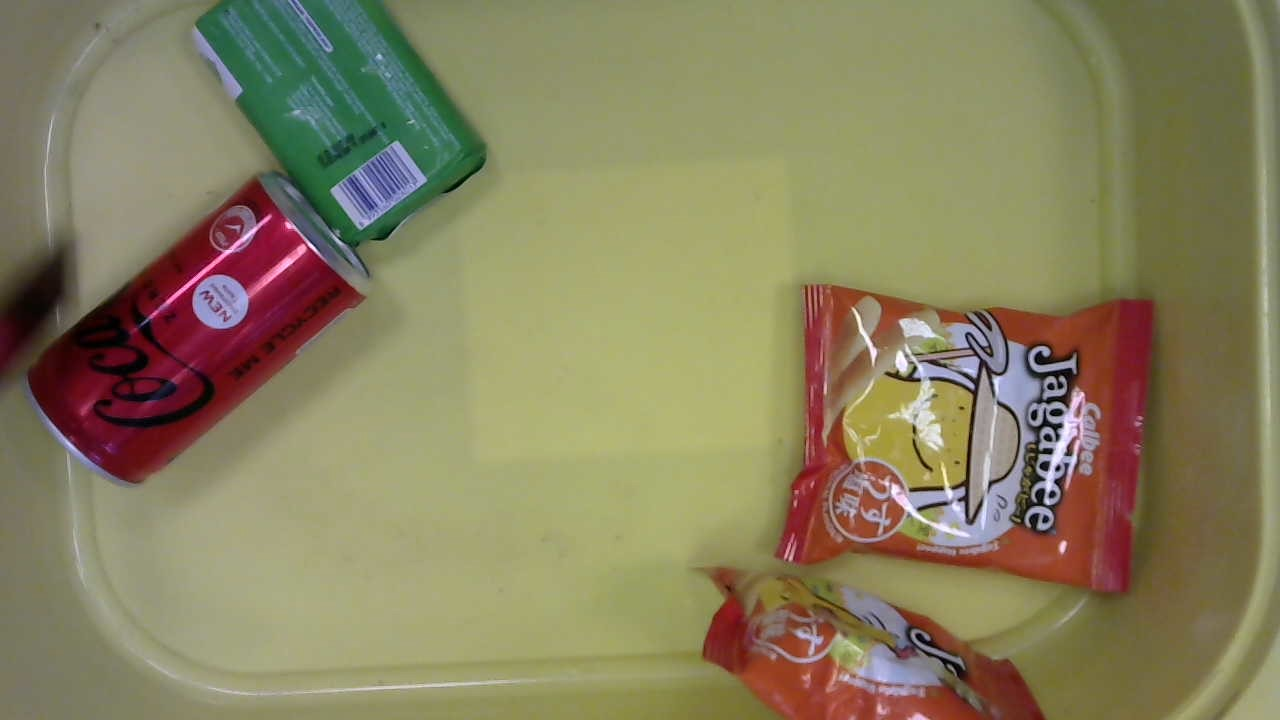JagabeeFarmer: (763, 270, 1163, 609)
